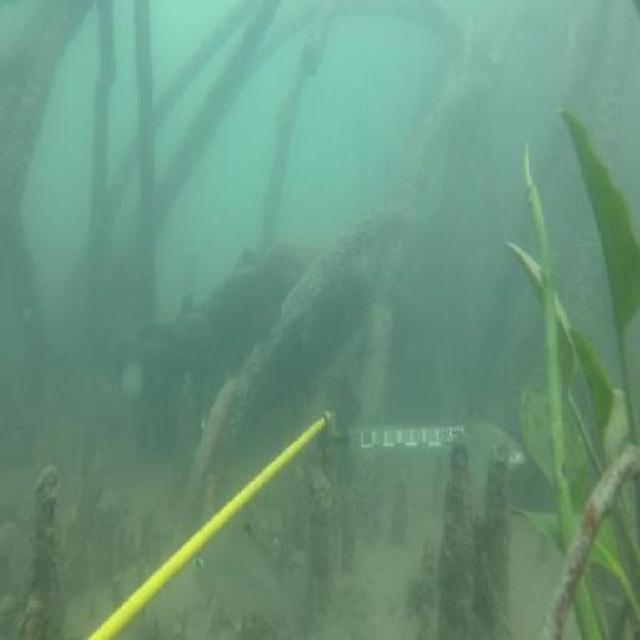gerres: (185, 512, 313, 632)
